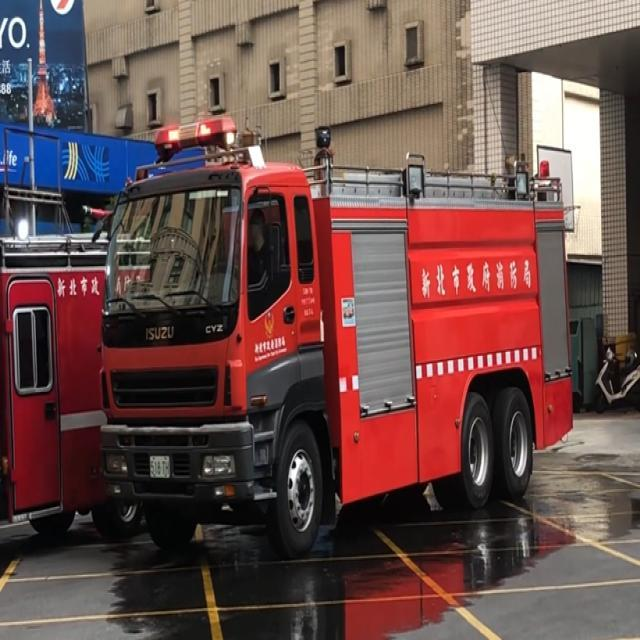ambulance: (100, 129, 572, 558)
